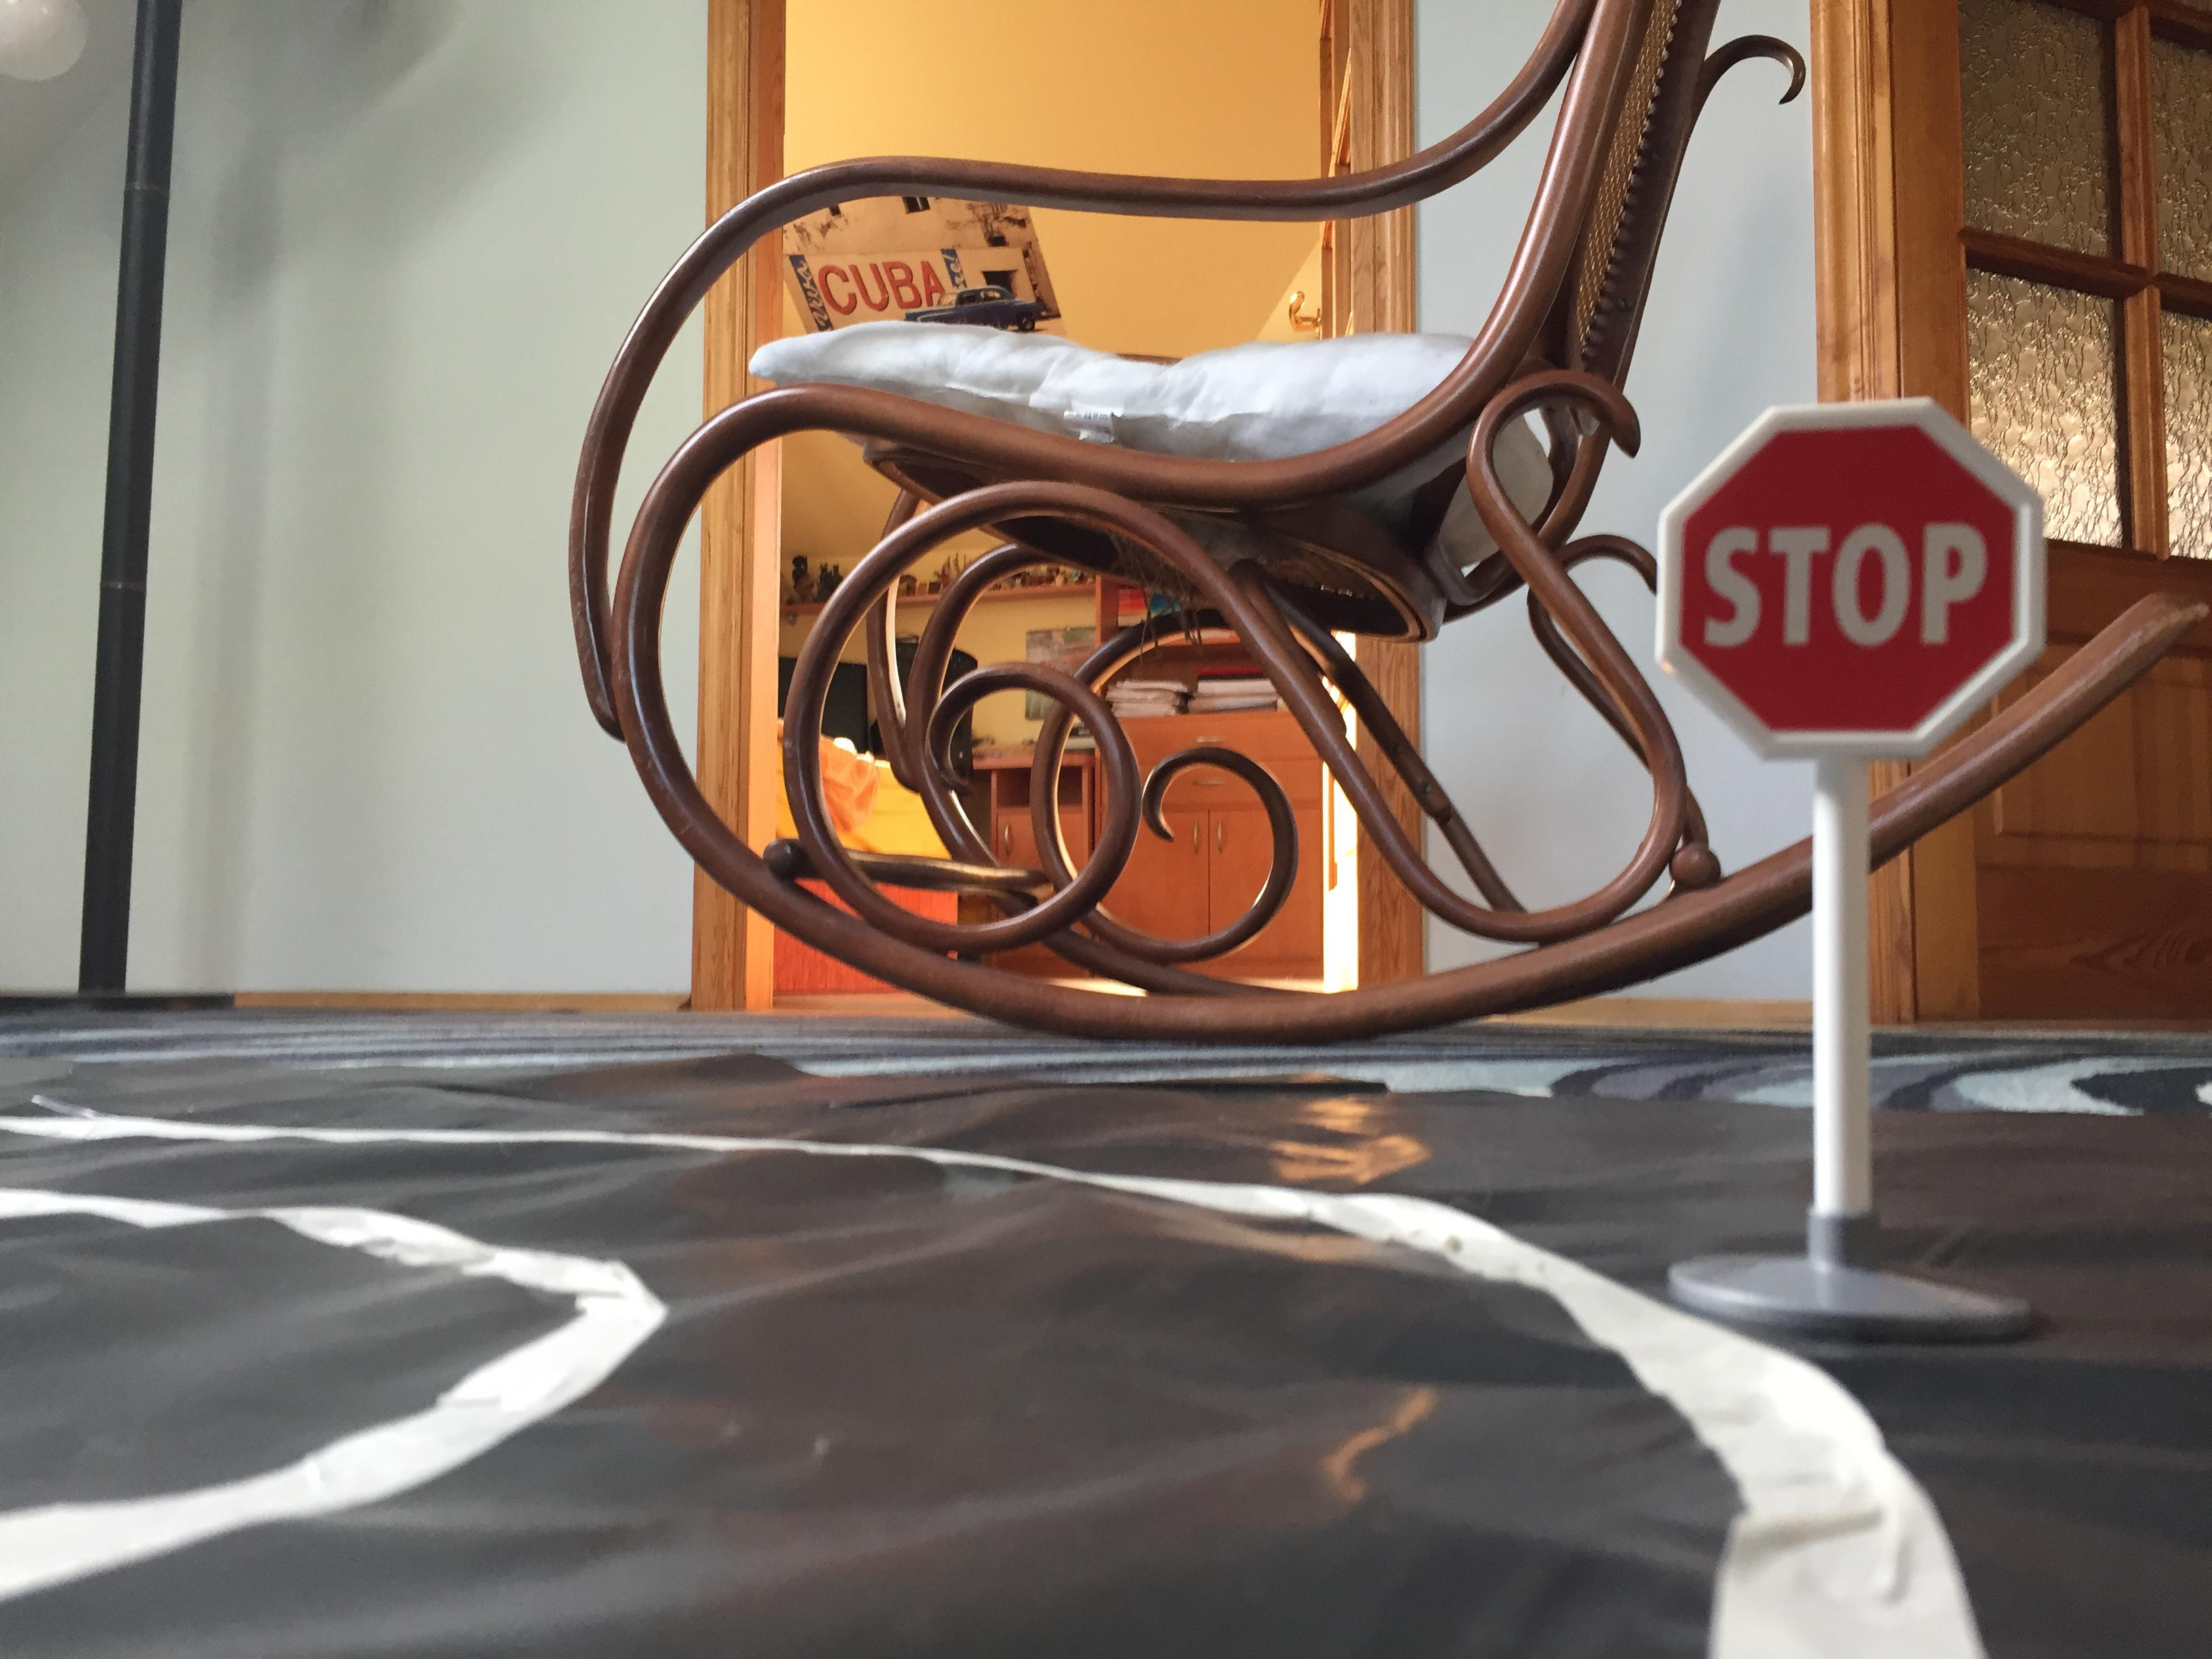stop: (1642, 390, 2062, 774)
